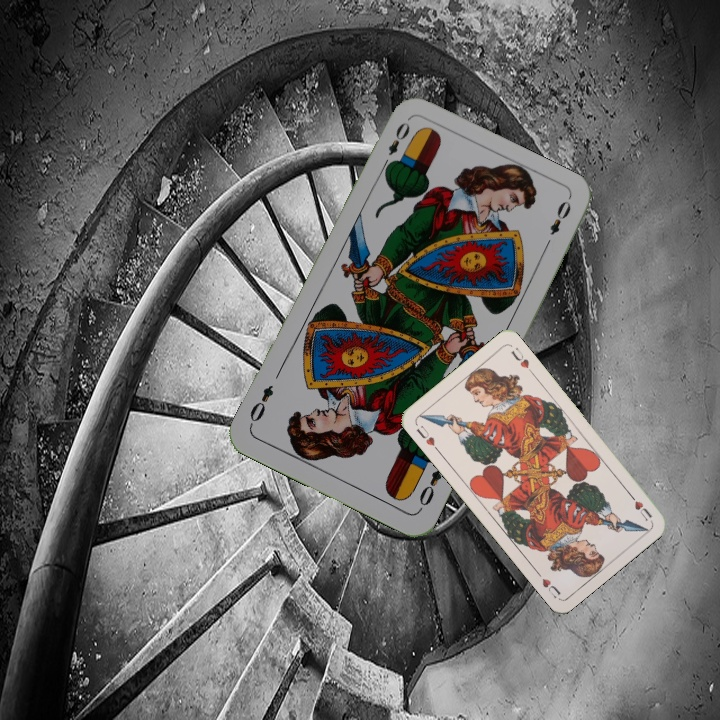EO: (378, 118, 413, 172), (415, 464, 444, 514)
HU: (625, 489, 655, 524), (412, 421, 442, 454)
